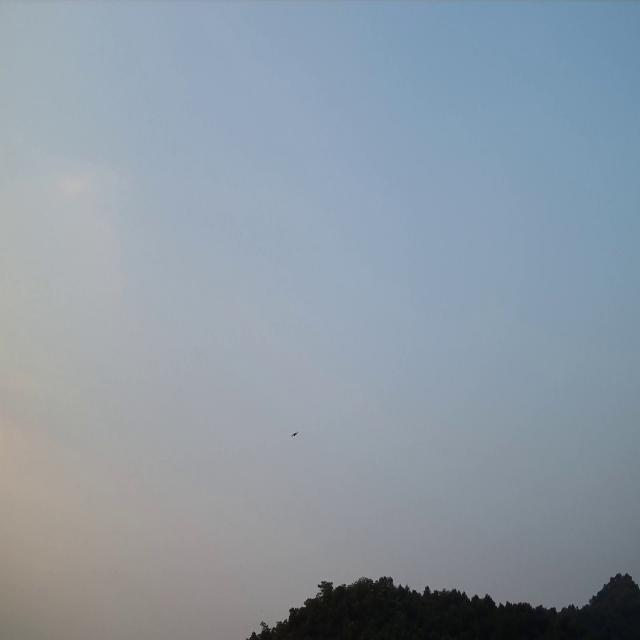drone: (291, 430, 299, 438)
